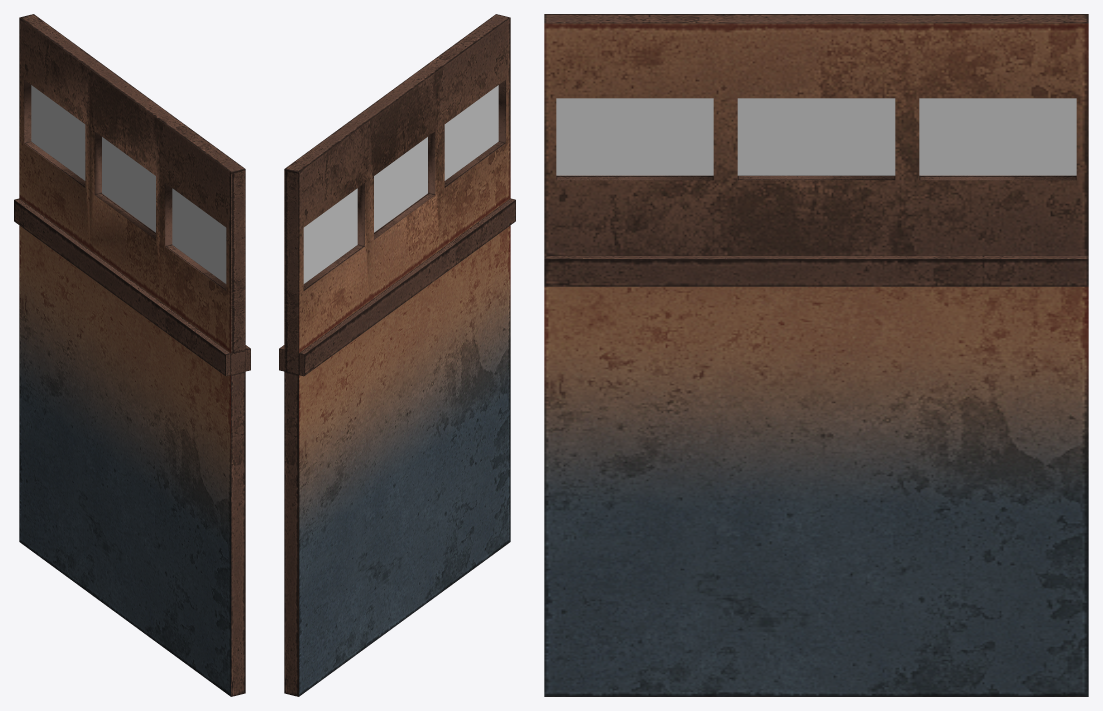
Rendered from Wall_Medium_windowed.fbx.
The picture shows the model from 3 angles, left to right: view 1: azimuth 30°, elevation 25°; view 2: azimuth 150°, elevation 25°; view 3: azimuth 270°, elevation 25°; orthographic projection. The views are drawn at different scales.
Parts seen in each view (by area): view 1: Wall_Medium_windowed; view 2: Wall_Medium_windowed; view 3: Wall_Medium_windowed.
Boxes of the visible parts, box(x1,y1,x2,y2) form: Wall_Medium_windowed: box(14, 14, 250, 696); Wall_Medium_windowed: box(279, 14, 515, 696); Wall_Medium_windowed: box(544, 14, 1088, 696).
Size of the model in its own units: 0.4076 by 8.13 by 5.96.
